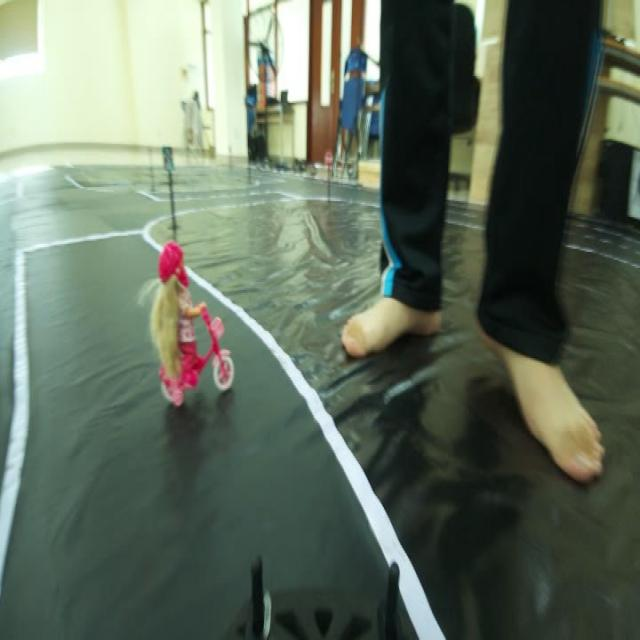pedestrian: (142, 236, 237, 418)
